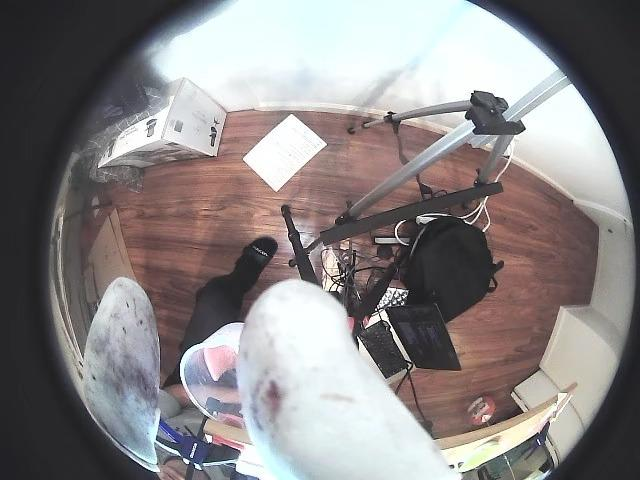gripper: (236, 279, 459, 479), (83, 277, 160, 471)
lense: (0, 0, 223, 479), (471, 0, 639, 479)
